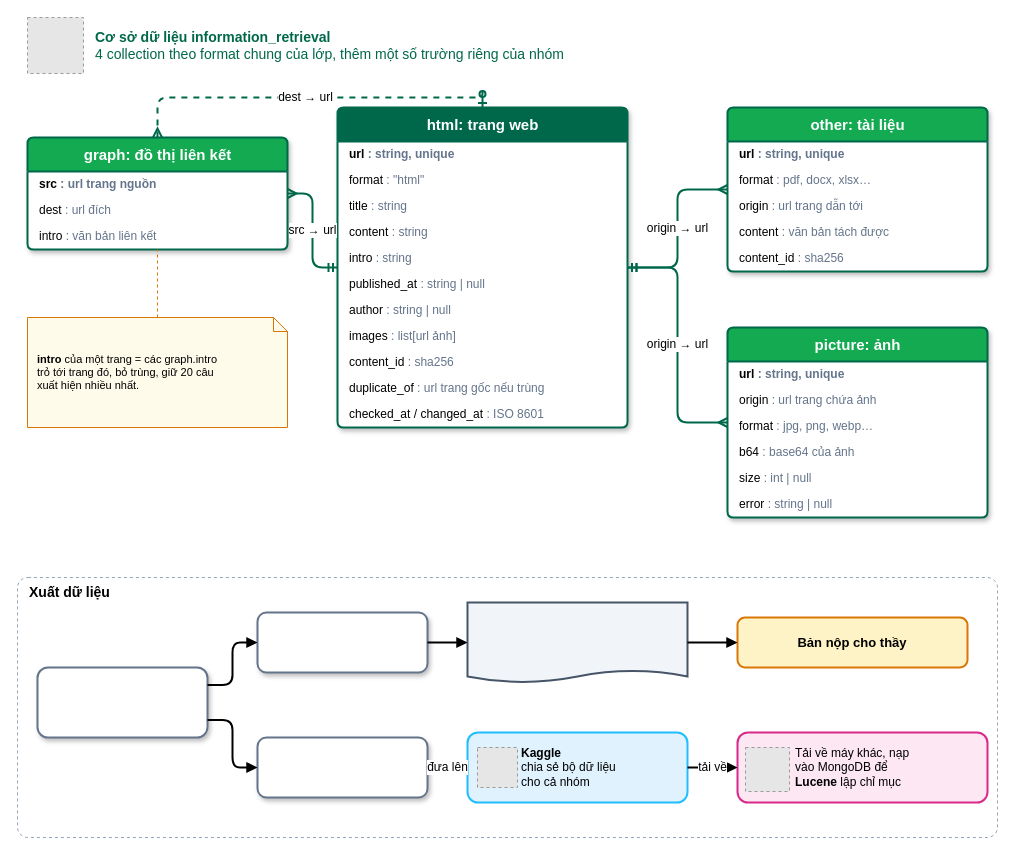
Image size: 1015x855. Some labels were removed from this diagram. Grey dashed boxes stand in for pictures. The shapes that lost their labels are listed below. From the top down, each one's centre as x and y in pixels, then its label:
At (343,643): "Sao lưu MongoDB bằng mongodump".
At (577,642): "Tệp sao lưu nén 18,9 GB".
At (123,703): "Kiểm tra dữ liệu đúng format chung".
At (343,768): "Đóng gói dữ liệu thành tệp JSON".
